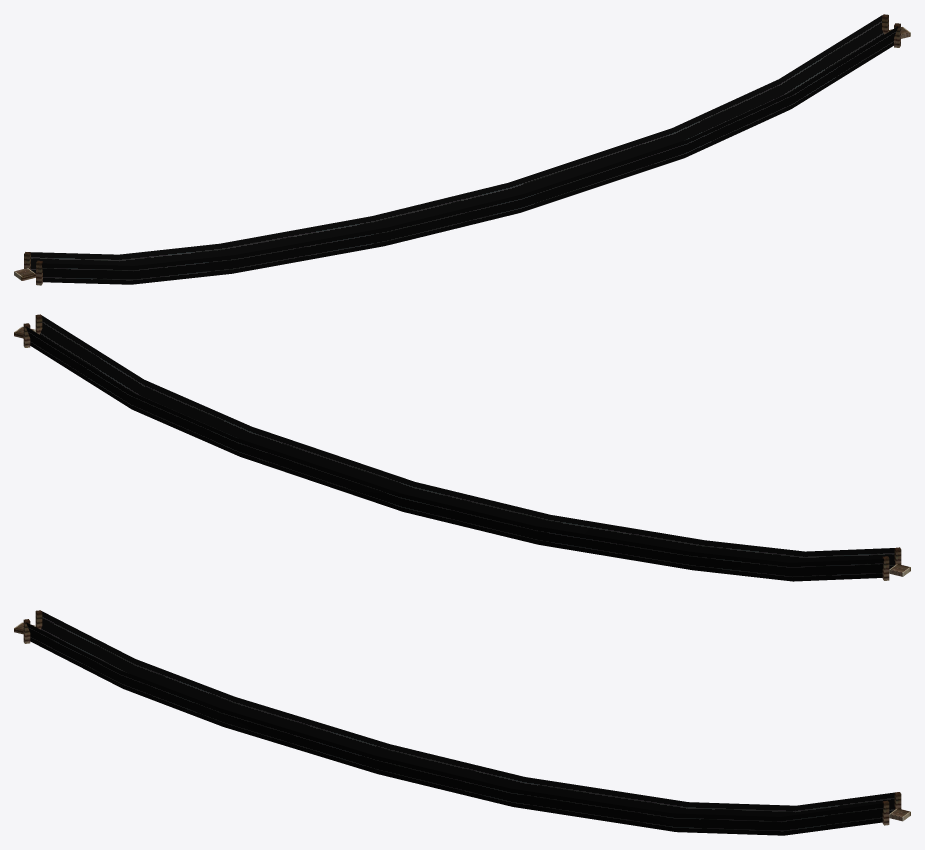
File: M11_OverheadWires02.glb
3 views of the same model, one above another, from view 1: azimuth 30°, elevation 25°; view 2: azimuth 150°, elevation 25°; view 3: azimuth 330°, elevation 25° (orthographic).
Visible parts, largest first — view 1: M11_OVERHEADWIRES02; view 2: M11_OVERHEADWIRES02; view 3: M11_OVERHEADWIRES02.
Part boxes in pixels (left/top/right/bottom): M11_OVERHEADWIRES02: left=14, top=14, right=910, bottom=285; M11_OVERHEADWIRES02: left=14, top=314, right=910, bottom=581; M11_OVERHEADWIRES02: left=14, top=610, right=910, bottom=835.
Bounding box in the file's own units: 24.09 × 2.52 × 0.866.
Materials: 2 (2 with a texture image).
